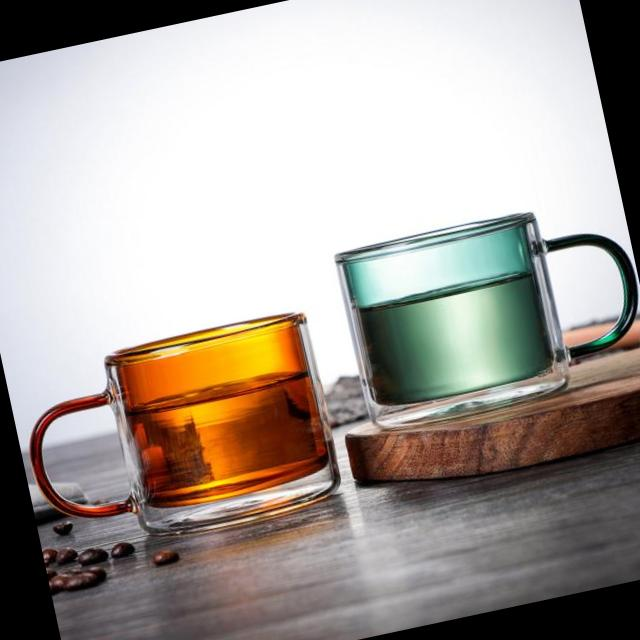Coffee Mug: (12, 308, 347, 562), (330, 191, 640, 439)
